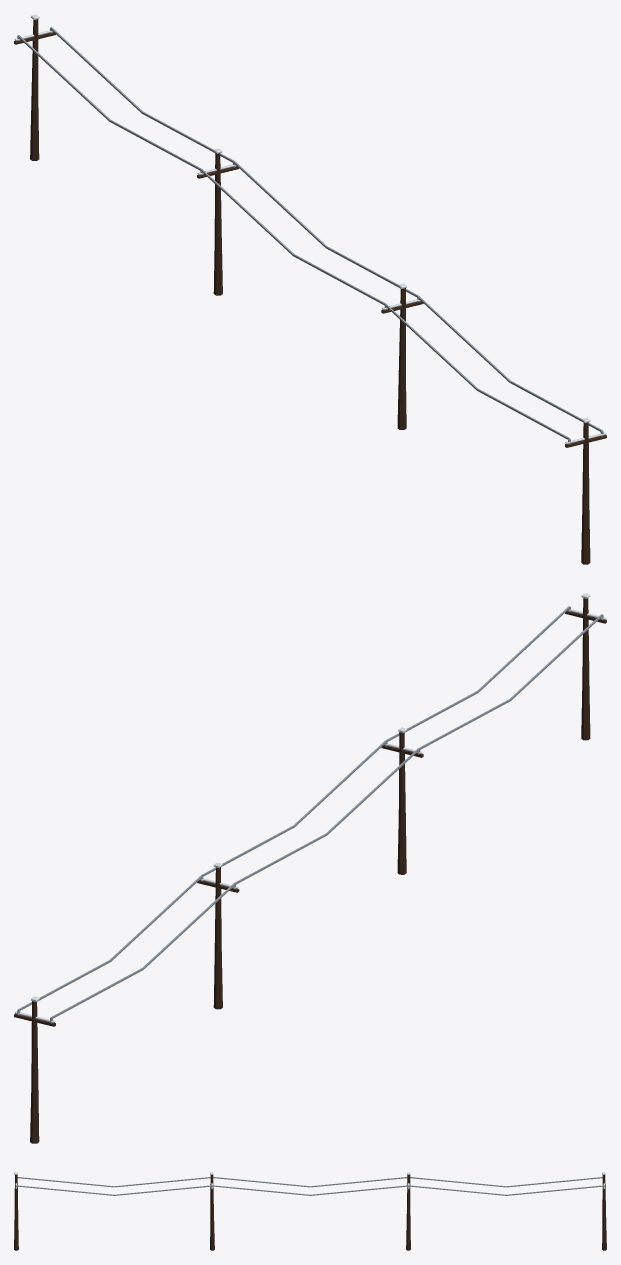
Rendered from Frontier_Prop_Telegraph.fbx.
3 views of the same model, one above another, from view 1: azimuth 30°, elevation 25°; view 2: azimuth 150°, elevation 25°; view 3: azimuth 270°, elevation 25° (orthographic). The views are drawn at different scales.
Parts seen in each view (by area): view 1: Frontier_Prop_Telegraph; view 2: Frontier_Prop_Telegraph; view 3: Frontier_Prop_Telegraph.
Boxes of the visible parts, left/top/right/bottom form: Frontier_Prop_Telegraph: left=14, top=14, right=606, bottom=564; Frontier_Prop_Telegraph: left=14, top=593, right=606, bottom=1143; Frontier_Prop_Telegraph: left=14, top=1172, right=606, bottom=1250.
Bounding box in the file's own units: 205 × 691 × 4840.
